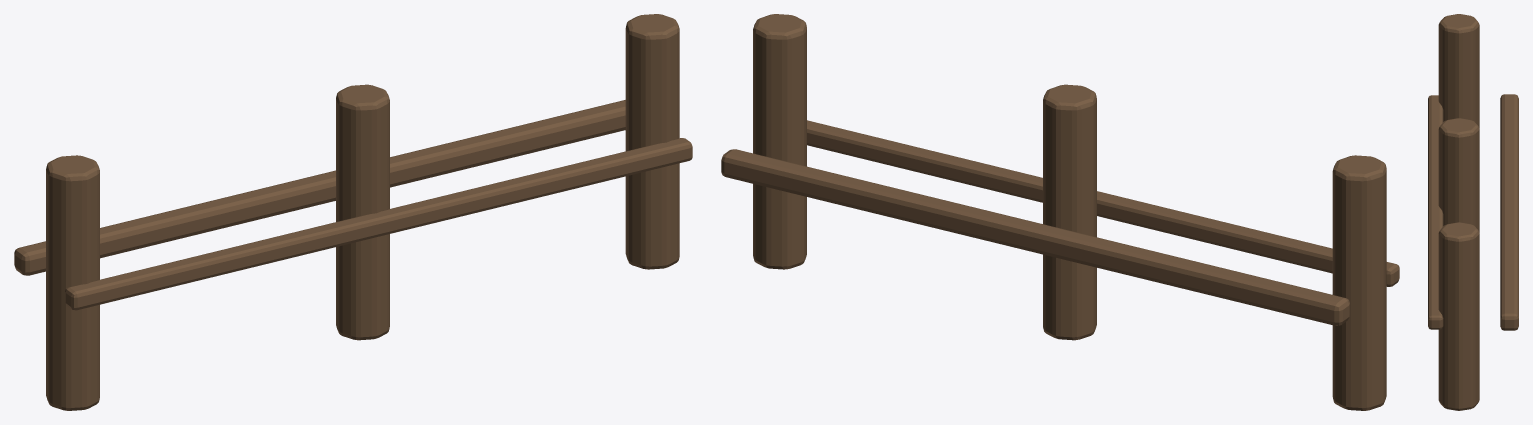
File: weathered_fence_module.glb
The picture shows the model from 3 angles, left to right: view 1: azimuth 30°, elevation 25°; view 2: azimuth 150°, elevation 25°; view 3: azimuth 270°, elevation 25°; orthographic projection. The views are drawn at different scales.
Parts seen in each view (by area): view 1: FenceRailLower, FenceRailUpper, FencePost00, FencePost02, FencePost01; view 2: FenceRailUpper, FencePost00, FenceRailLower, FencePost01, FencePost02; view 3: FencePost02, FenceRailUpper, FencePost00, FencePost01, FenceRailLower.
Part boxes in pixels (x1,y1,x2,y2): FenceRailLower: (65,138,692,310); FenceRailUpper: (14,100,625,275); FencePost00: (46,155,99,410); FencePost02: (625,14,679,269); FencePost01: (336,84,389,340); FenceRailUpper: (721,149,1349,325); FencePost00: (1332,155,1386,410); FenceRailLower: (807,120,1399,286); FencePost01: (1043,84,1096,340); FencePost02: (753,14,806,269); FencePost02: (1438,222,1479,410); FenceRailUpper: (1500,94,1518,330); FencePost00: (1438,14,1479,128); FencePost01: (1438,118,1479,232); FenceRailLower: (1428,95,1443,329).
Size of the model in its own units: 4.55 by 1.64 by 0.775.
